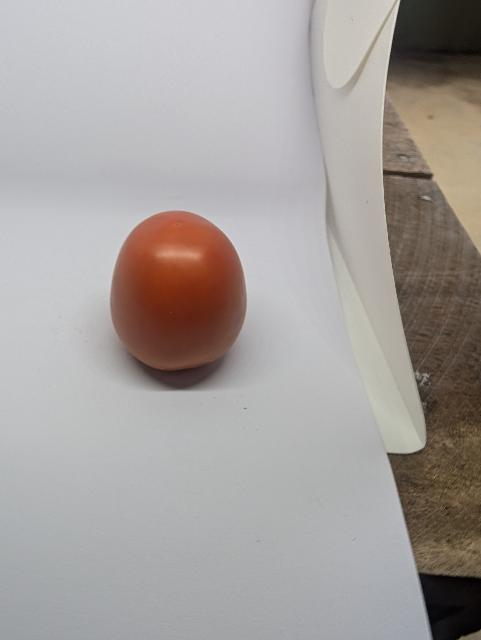red: (96, 200, 285, 388)
